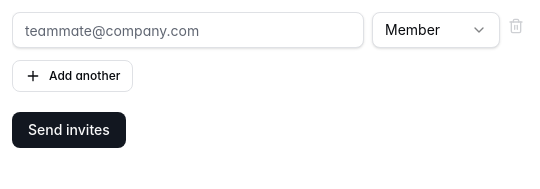
Test case: DynamicFieldArrayForm › shows an inline error for an invalid email on submit
The width and height of the screenshot is (540, 189).
Type "not-an-email" into the field named "Email 1" at (188, 30), box [12, 12, 364, 48]
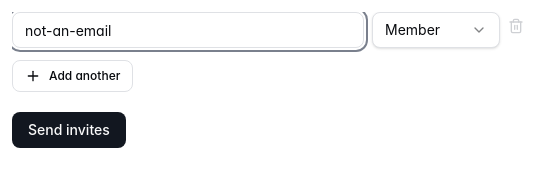
Click the button "Send invites" at (69, 130), box [12, 112, 126, 148]
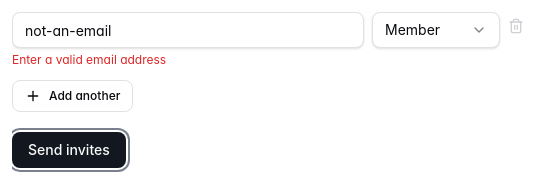
Now the text "Enter a valid email address" is shown, box [12, 52, 166, 67]
